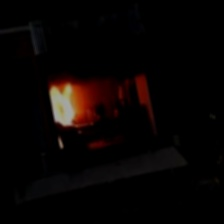fire: (43, 71, 91, 127)
